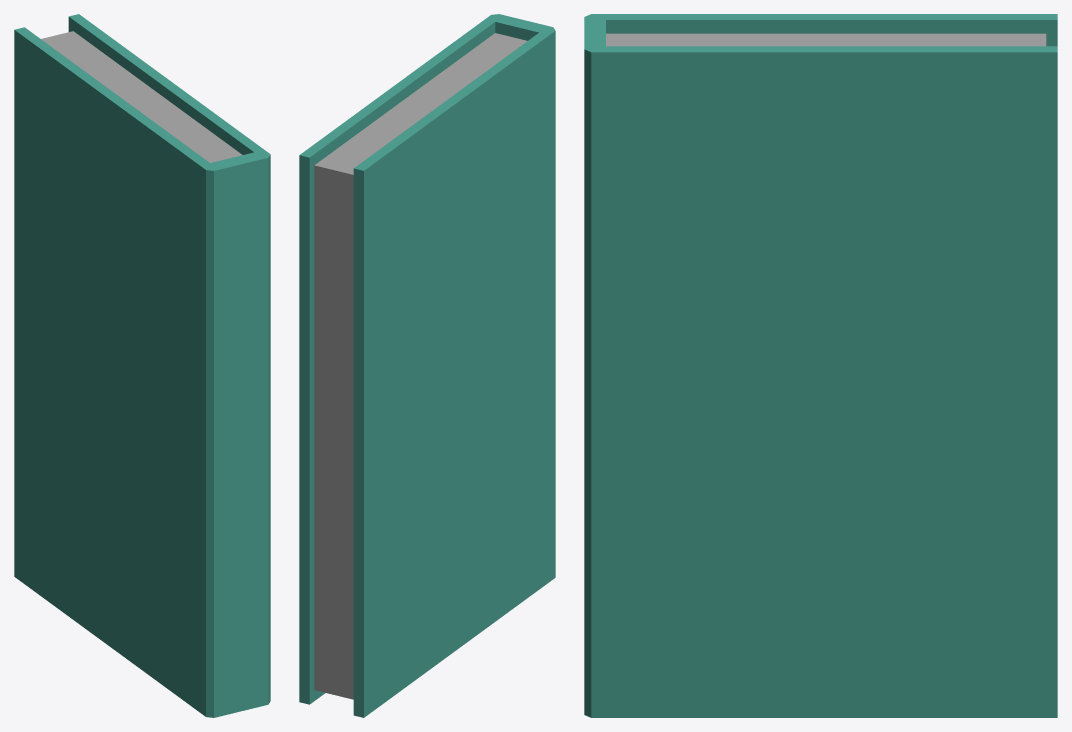
File: book2.fbx
The picture shows the model from 3 angles, left to right: view 1: azimuth 30°, elevation 25°; view 2: azimuth 150°, elevation 25°; view 3: azimuth 270°, elevation 25°; orthographic projection. The views are drawn at different scales.
Parts seen in each view (by area): view 1: polySurface1, polySurface2, polySurface3; view 2: polySurface1, polySurface2; view 3: polySurface1, polySurface2.
Boxes of the visible parts, x1,y1,x2,y2 form: polySurface1: [14, 14, 270, 717]; polySurface2: [41, 31, 242, 162]; polySurface3: [206, 181, 213, 706]; polySurface1: [299, 14, 555, 717]; polySurface2: [314, 33, 527, 699]; polySurface1: [584, 14, 1057, 717]; polySurface2: [606, 33, 1046, 46].
Bounding box in the file's own units: 1.82 × 14.74 × 9.5.
